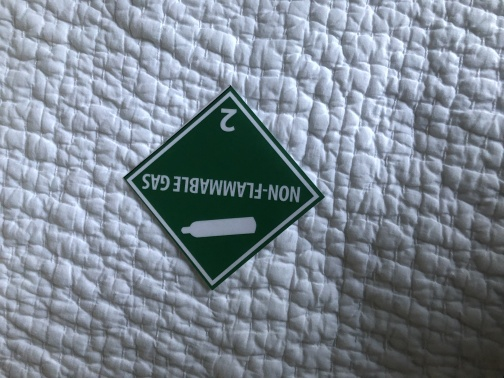NonFlammableGas: (124, 86, 324, 290)
